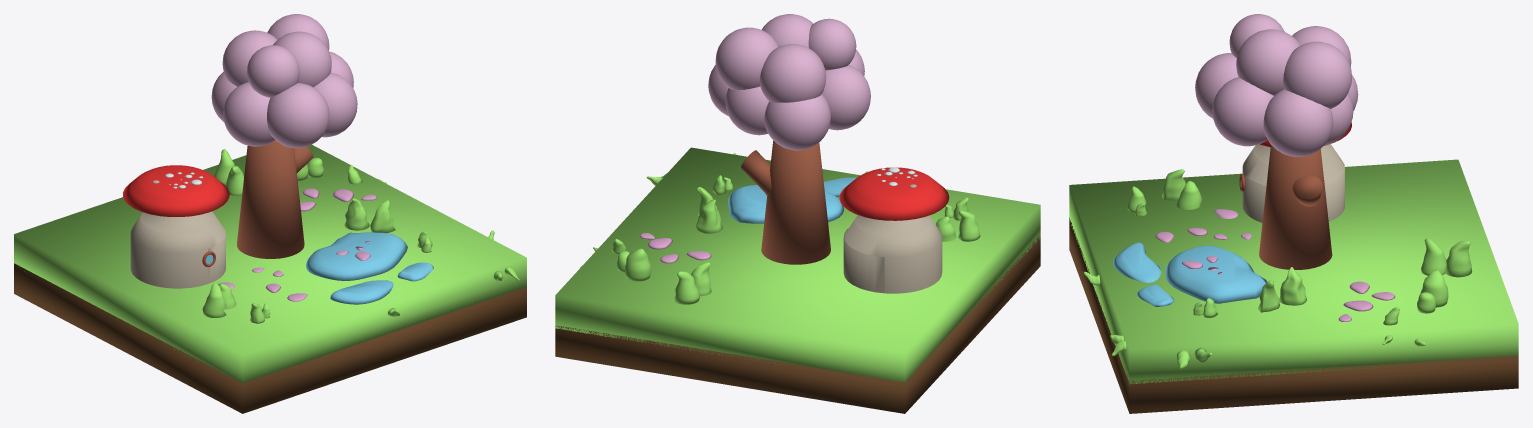
File: TreeScene.glb
3 renders of one model, left to right at view 1: azimuth 30°, elevation 25°; view 2: azimuth 150°, elevation 25°; view 3: azimuth 270°, elevation 25°, orthographic. The views are drawn at different scales.
Visible parts, largest first — view 1: Cube.001, Cube, Cylinder, Circle.004, Circle.007, Circle.017, Sphere.005, Sphere.001, Sphere.007, Sphere.008, Sphere.006, Sphere.010 (+7 smaller); view 2: Cube.001, Cube, Circle.004, Cylinder, Circle.007, Sphere.010, Sphere.002, Sphere.011, Sphere.001, Sphere.007, Circle.017, Sphere.003 (+8 smaller); view 3: Cube.001, Cube, Cylinder, Circle.017, Sphere.004, Sphere.011, Sphere.006, Circle.004, Sphere.008, Sphere.005, Circle.021, Sphere.007 (+11 smaller).
Boxes of the visible parts, x1,y1,x2,y2 form: Cube.001: (14, 145, 526, 383); Cube: (14, 263, 526, 413); Cylinder: (237, 140, 304, 258); Circle.004: (130, 211, 225, 288); Circle.007: (123, 165, 229, 216); Circle.017: (306, 232, 407, 280); Sphere.005: (267, 83, 329, 148); Sphere.001: (223, 82, 274, 146); Sphere.007: (247, 45, 299, 97); Sphere.008: (273, 31, 331, 87); Sphere.006: (314, 72, 357, 137); Sphere.010: (222, 30, 276, 86); Cube.001: (555, 147, 1040, 382); Cube: (555, 235, 1040, 413); Circle.004: (843, 215, 942, 293); Cylinder: (761, 140, 830, 264); Circle.007: (839, 167, 949, 220); Sphere.010: (759, 44, 826, 102); Sphere.002: (764, 94, 830, 150); Sphere.011: (715, 27, 777, 90); Sphere.001: (822, 65, 870, 130); Sphere.007: (808, 18, 856, 70); Circle.017: (728, 185, 843, 223); Sphere.003: (725, 86, 768, 135); Cube.001: (1069, 159, 1518, 384); Cube: (1069, 217, 1518, 413); Cylinder: (1259, 145, 1332, 269); Circle.017: (1165, 245, 1266, 303); Sphere.004: (1263, 89, 1333, 156); Sphere.011: (1283, 41, 1352, 108); Sphere.006: (1212, 77, 1273, 146); Circle.004: (1242, 144, 1344, 222); Sphere.008: (1236, 29, 1300, 95); Sphere.005: (1195, 53, 1238, 118); Circle.021: (1113, 242, 1161, 282); Sphere.007: (1229, 14, 1284, 57).
Bounding box in the file's own units: 2.32 × 1.66 × 2.28.
